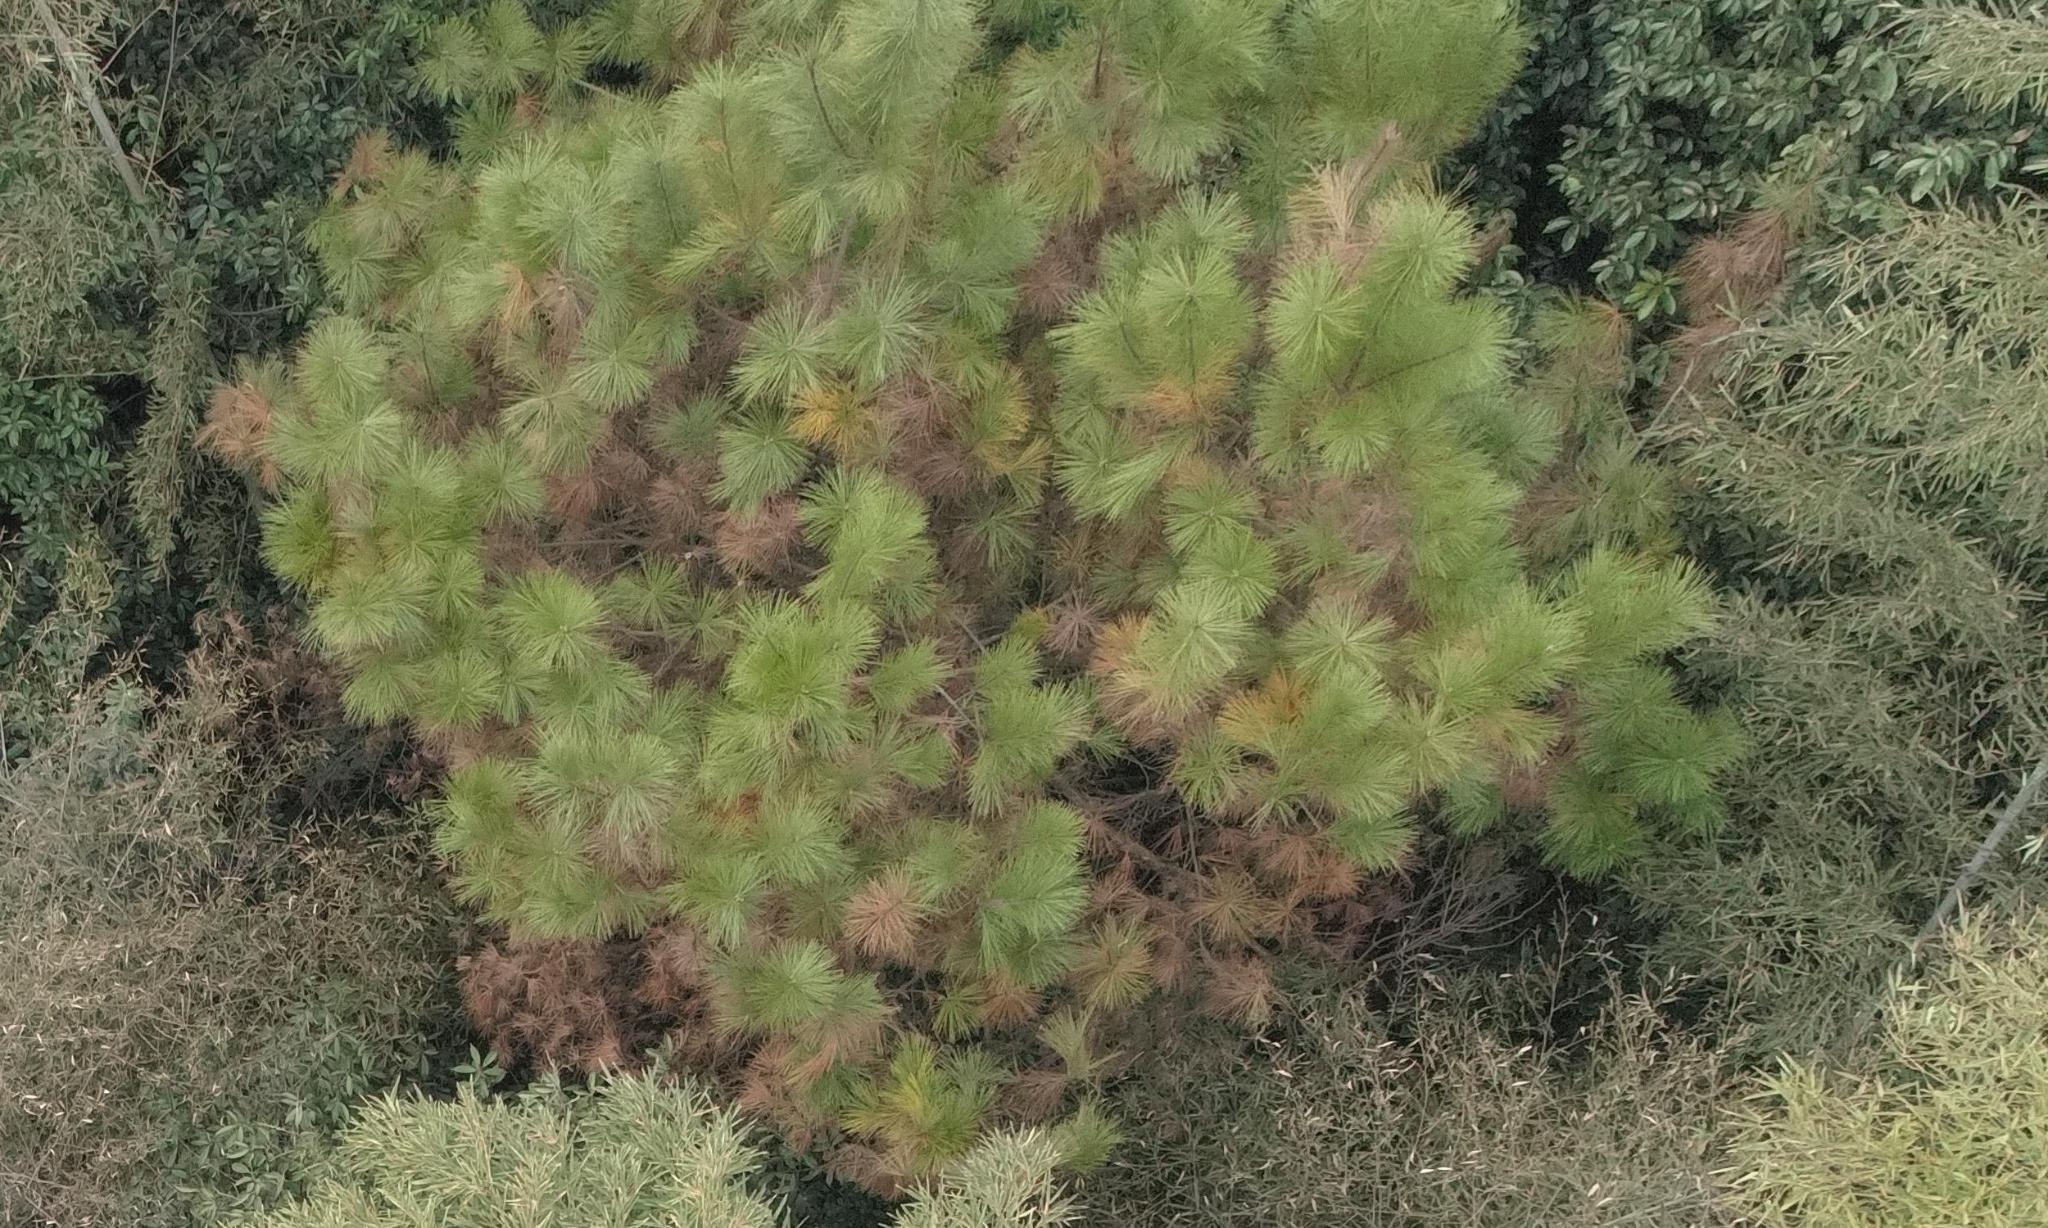light: (228, 20, 1588, 1146)
